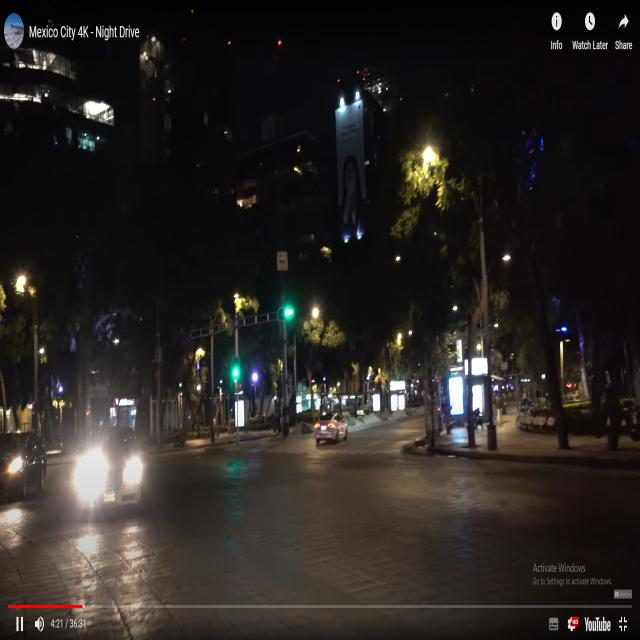headlights: (72, 442, 153, 506)
